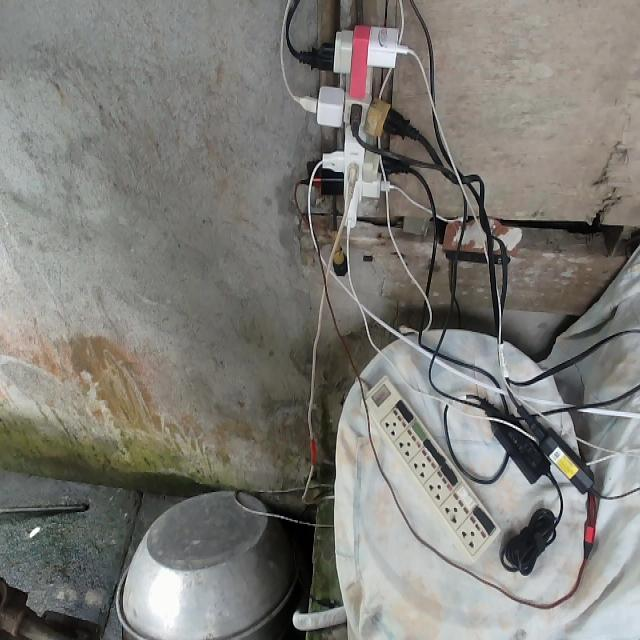-: (300, 25, 401, 232)
